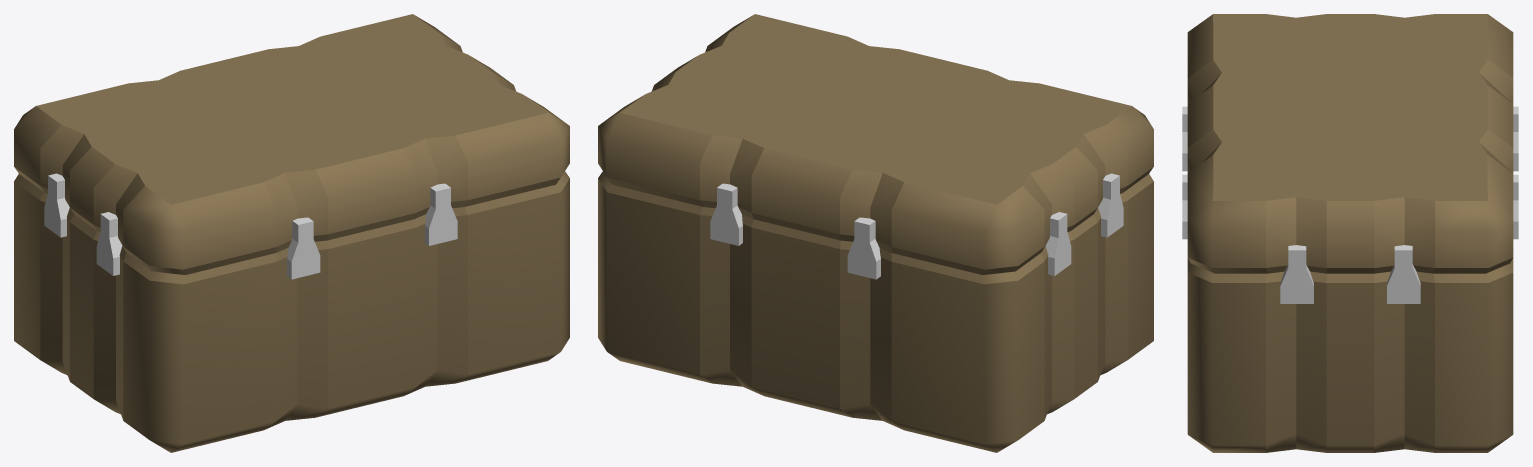
The model's file is box_big_2.glb.
3 views of the same model, side by side, from view 1: azimuth 30°, elevation 25°; view 2: azimuth 150°, elevation 25°; view 3: azimuth 270°, elevation 25° (orthographic).
Visible parts, largest first — view 1: box_004; view 2: box_004; view 3: box_004.
Boxes of the visible parts, bbox=[...] form: box_004: bbox=[14, 14, 569, 452]; box_004: bbox=[598, 14, 1153, 452]; box_004: bbox=[1182, 14, 1518, 452].
Size of the model in its own units: 1.41 by 0.7844 by 0.9475.
Materials: 2 (2 with a texture image).
